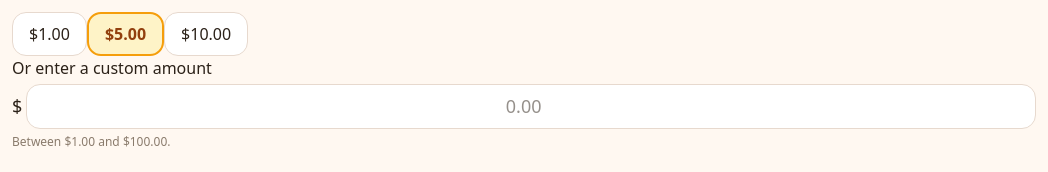
Scenario: TipAmountSelector › shows error for custom amount above max
Type "150.00" into the number field labelled "Or enter a custom amount". click: (531, 106)
box: [26, 84, 1036, 129]
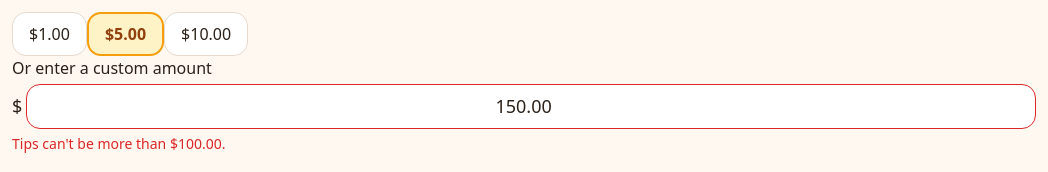
expect the text "Tips can't be more than $100.00." is shown: met, box [12, 134, 225, 153]
